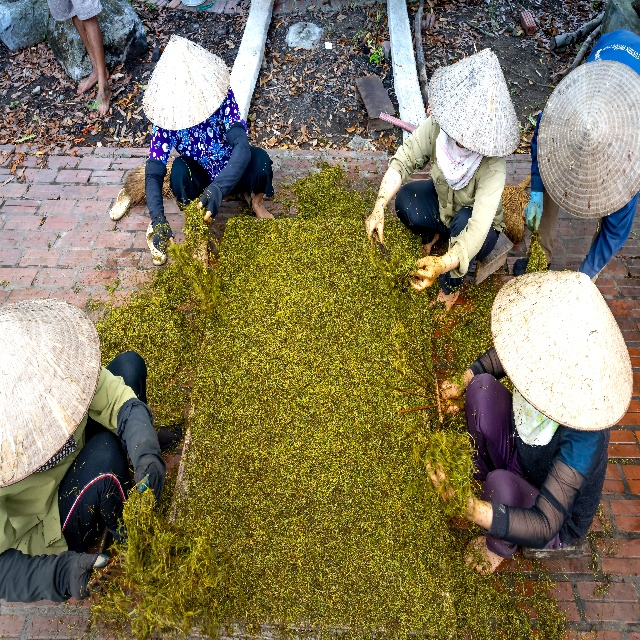Guantes: (0, 547, 109, 603), (114, 398, 167, 507), (199, 122, 252, 216), (144, 158, 173, 254), (524, 191, 545, 228)
Sin_guantes: (410, 255, 440, 293), (441, 374, 464, 415), (365, 206, 384, 247)
